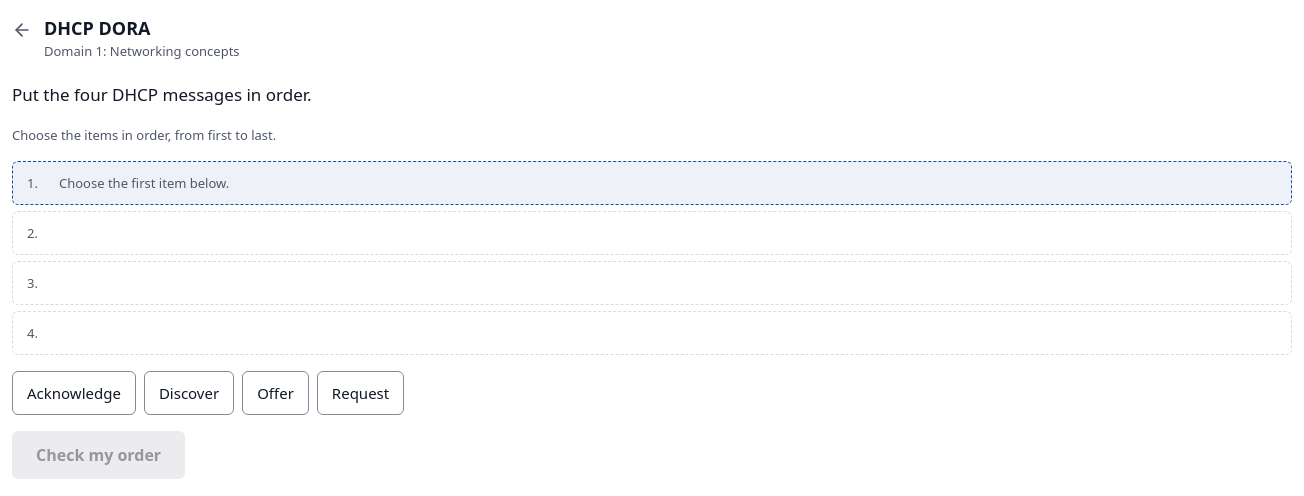
Test case: ordering PBQs › fills the next row with each press, and checks once every item is placed
expect the button "Check my order" is disabled: met, box x1=12 y1=431 x2=185 y2=479
Step 1. Click the button "Discover" → (189, 393), box x1=144 y1=371 x2=234 y2=415
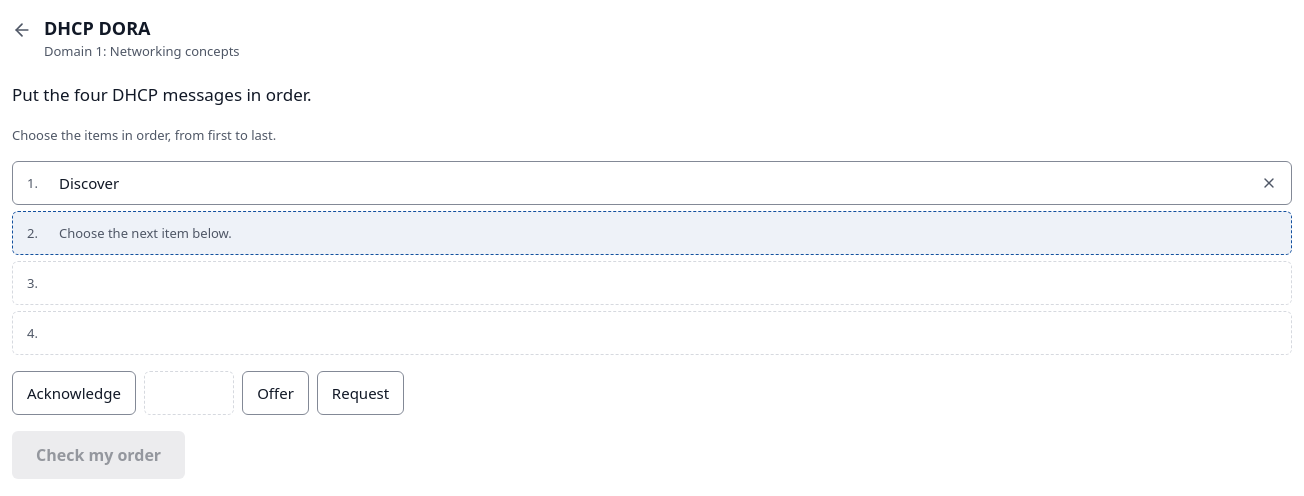
Step 2. Click the button "Offer" → (275, 393), box x1=242 y1=371 x2=309 y2=415
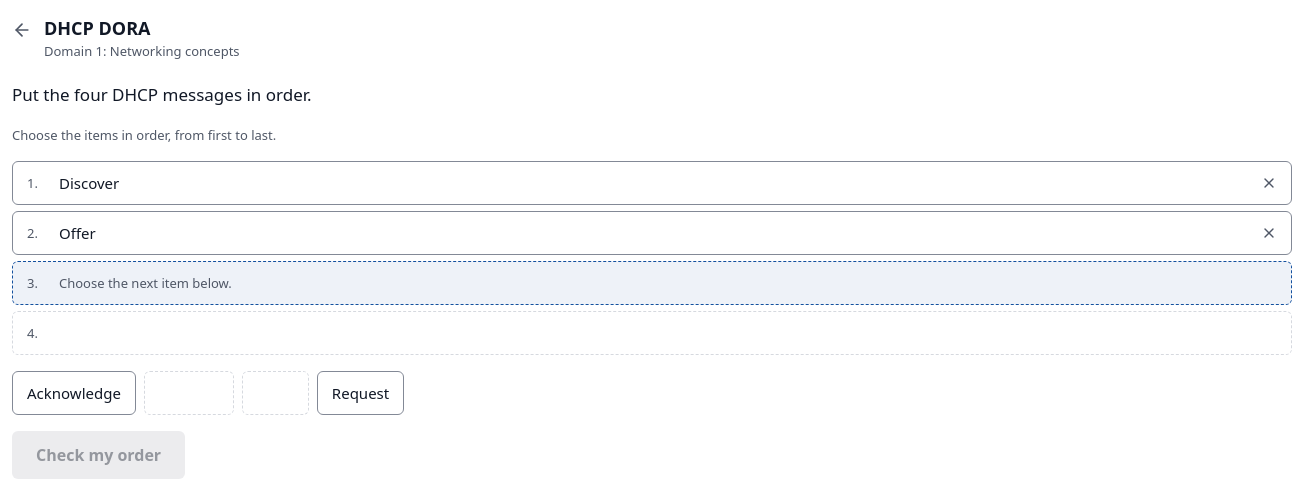
Step 3. Click the button "Request" → (360, 393), box x1=317 y1=371 x2=404 y2=415
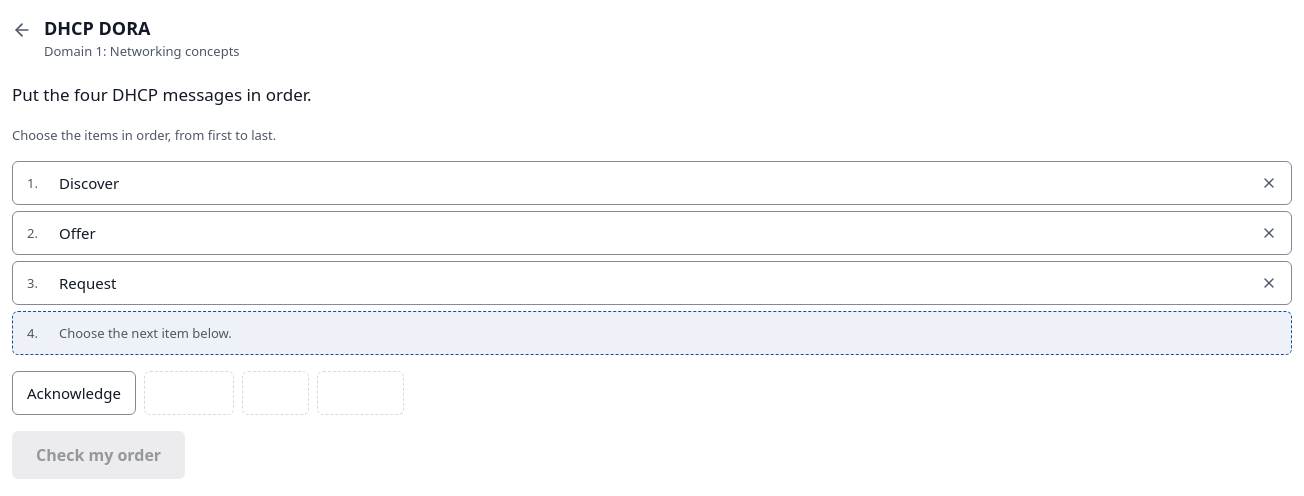
expect the button "Check my order" is disabled: met, box x1=12 y1=431 x2=185 y2=479
expect the button "1. Discover" is shown: met, box x1=12 y1=161 x2=1292 y2=205
expect the button "3. Request" is shown: met, box x1=12 y1=261 x2=1292 y2=305
Step 4. Click the button "Acknowledge" → (74, 393), box x1=12 y1=371 x2=136 y2=415
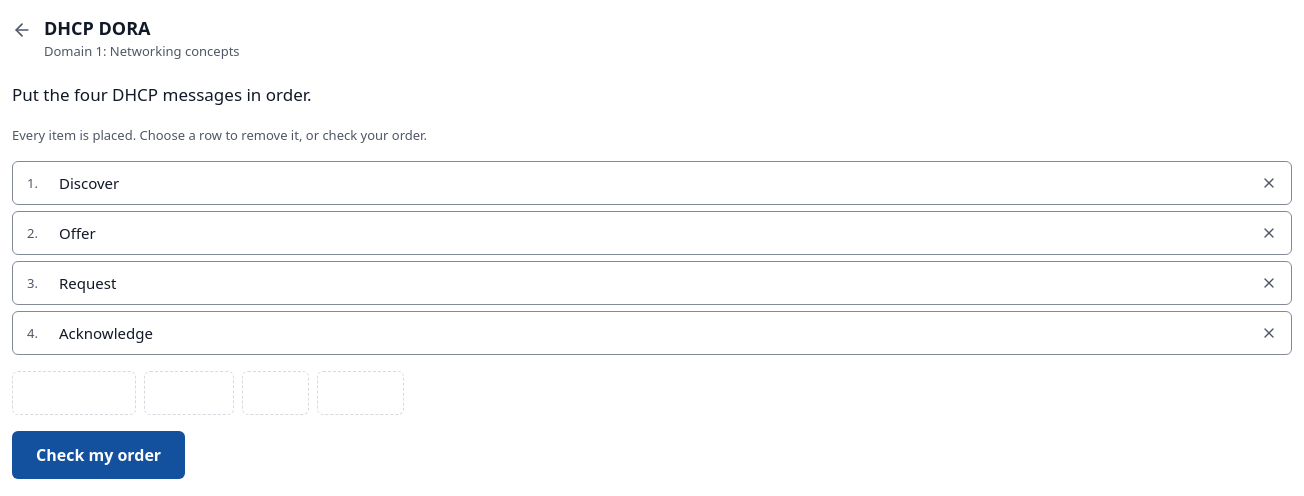
Step 5. Click the button "Check my order" → (99, 455), box x1=12 y1=431 x2=185 y2=479
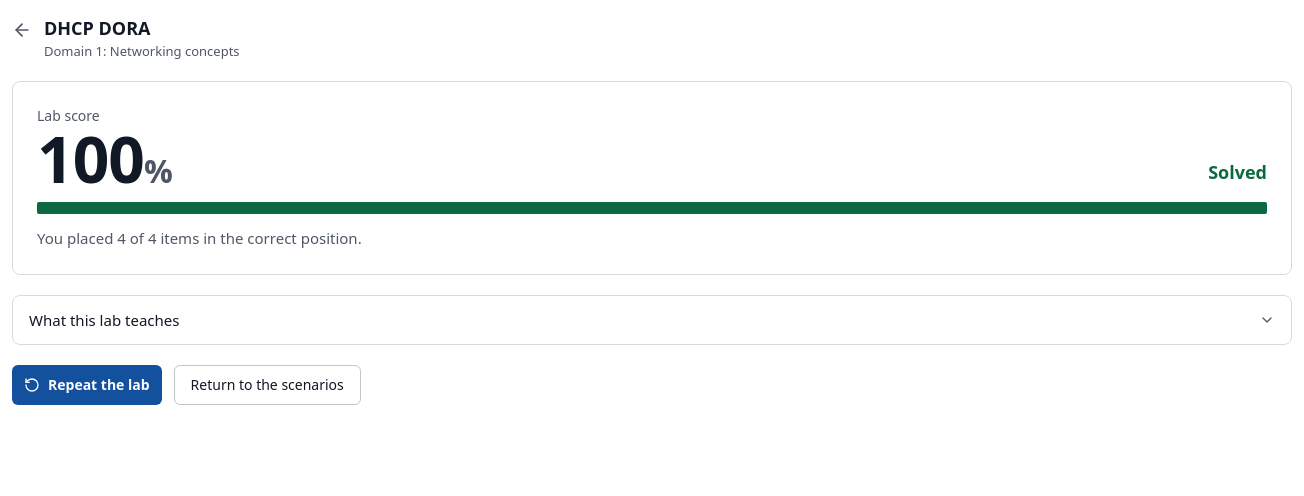
expect the element named "Your score" shows "100%": met
expect the element named "Your score" shows "You placed 4 of 4 items in the correct position.": met, box x1=37 y1=228 x2=362 y2=248
